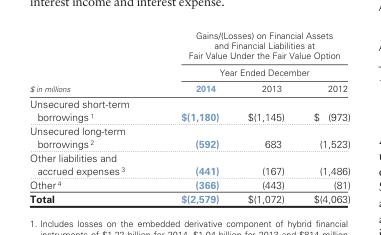table: (28, 29, 349, 204)
table column: (28, 29, 154, 204), (154, 29, 232, 204), (232, 29, 298, 204), (298, 29, 349, 204)
table column header: (28, 29, 349, 95)
table row: (28, 29, 349, 79), (28, 95, 349, 123), (28, 123, 349, 150), (28, 150, 349, 177), (28, 79, 349, 95), (28, 177, 349, 191), (28, 191, 349, 204)
table spanning cell: (154, 29, 349, 79), (28, 29, 154, 95)
